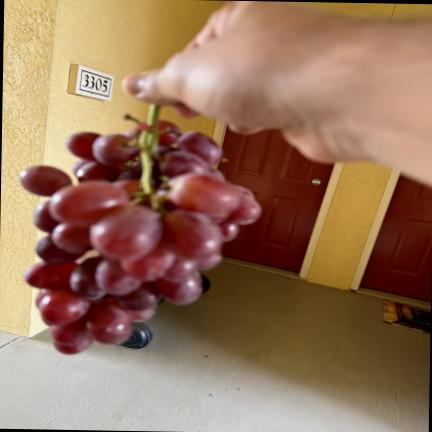grape_cluster: (19, 105, 261, 353)
